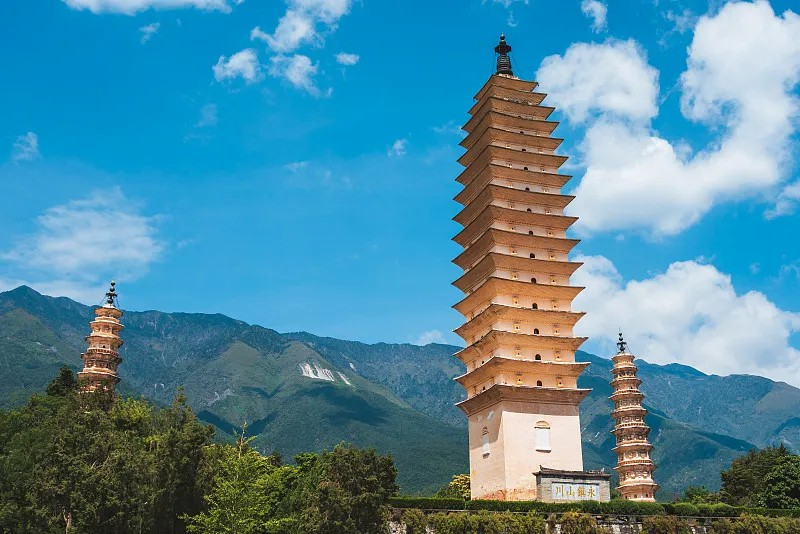ThreePagoda: (450, 34, 594, 502)
